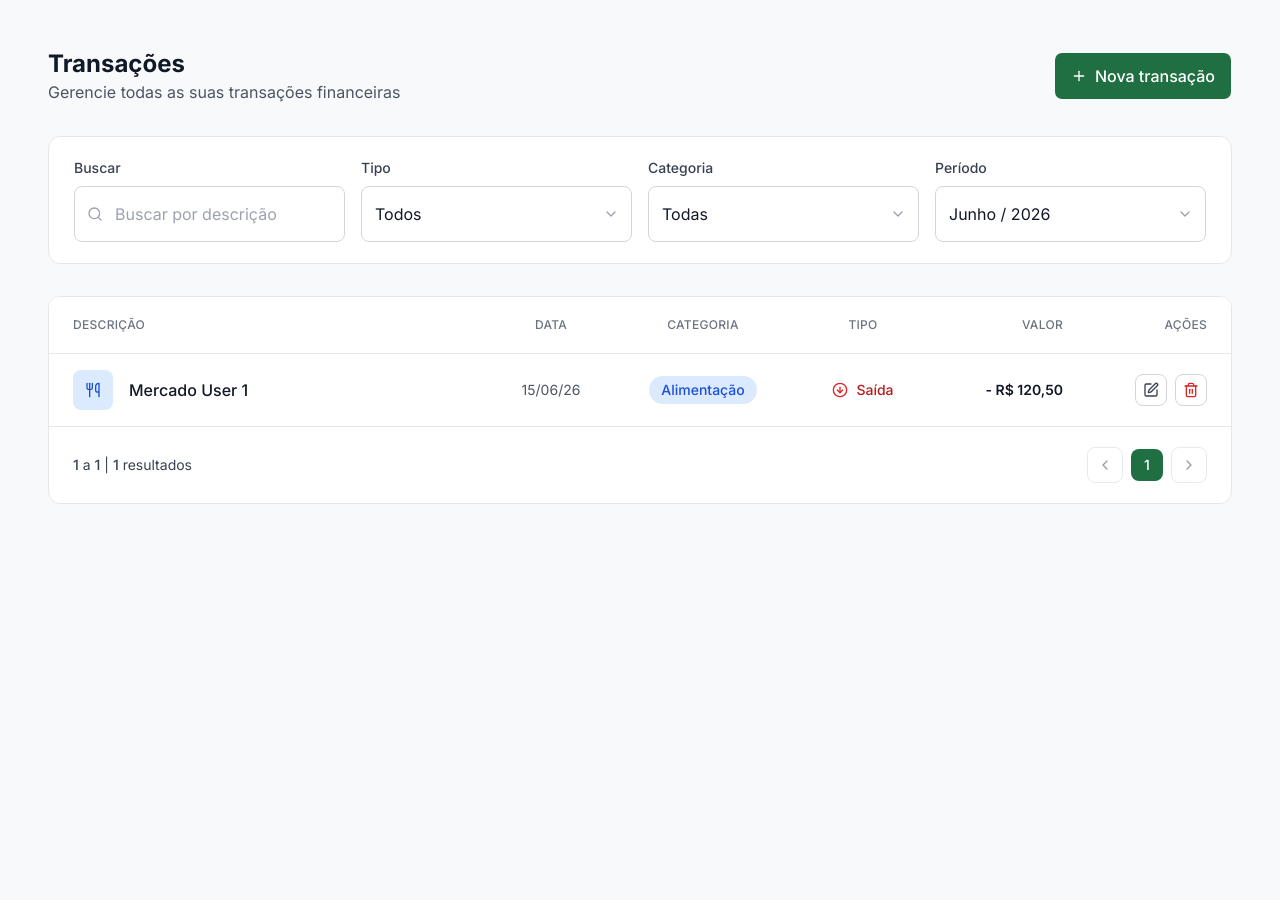
Test: Transactions page › exclui transacao apos confirmacao
Check: the text "Mercado User 1" is shown, box top-left (129, 378), bottom-right (248, 402)
What coordinates should you click on to do the following:
click the button named "Excluir"
I would click on:
 (1191, 390)
Its box is top-left (1175, 374), bottom-right (1207, 406).
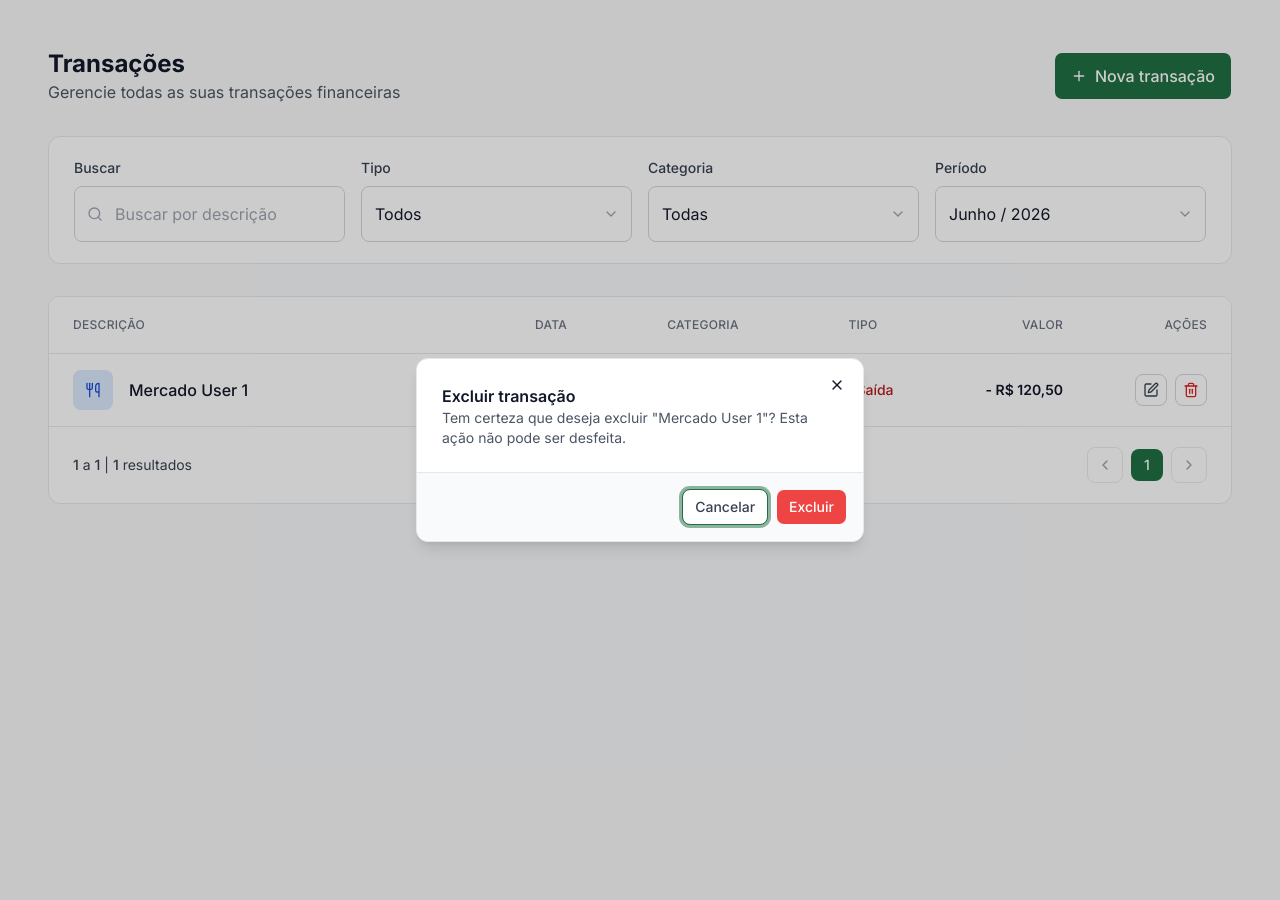
What coordinates should you click on to do the following:
click the button "Excluir"
I would click on:
 (812, 507)
Its box is top-left (776, 489), bottom-right (847, 525).
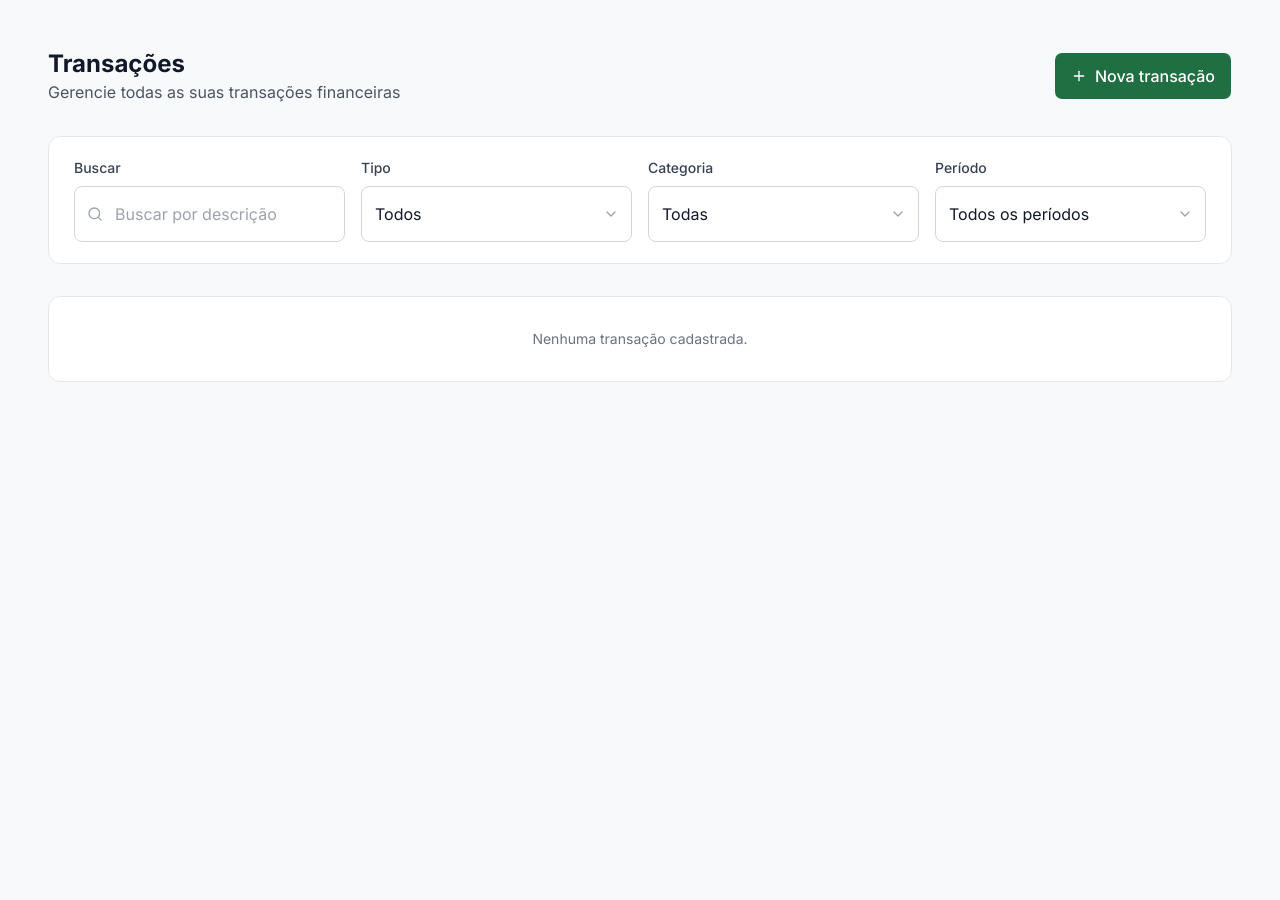
Check: the text "Mercado User 1" is gone
